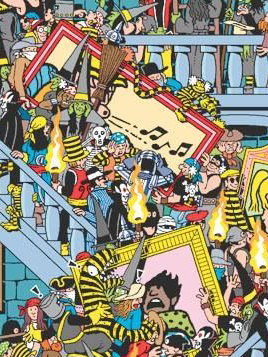waldo: (30, 17, 48, 42)
